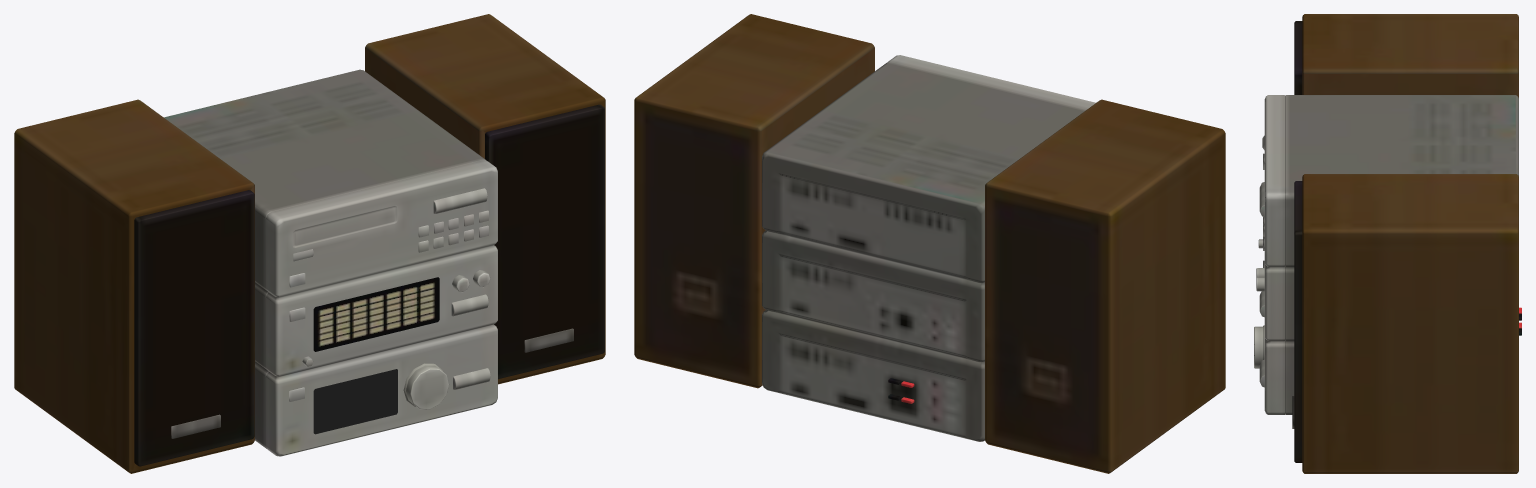
3 views of the same model, side by side, from view 1: azimuth 30°, elevation 25°; view 2: azimuth 150°, elevation 25°; view 3: azimuth 270°, elevation 25° (orthographic). The views are drawn at different scales.
Size of the model in its own units: 13.76 by 7.2 by 7.14.
3 materials, 3 textured.
